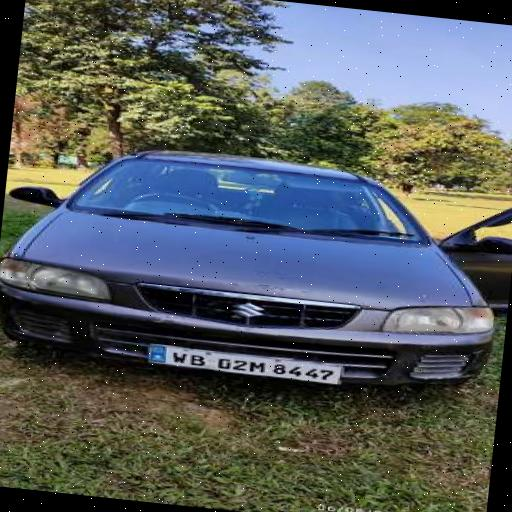license_plate`: (142, 343, 339, 384)
